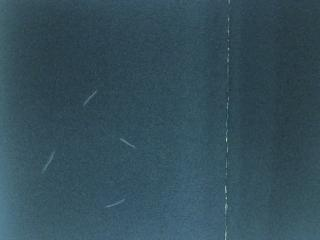crack: (217, 0, 238, 240)
scratch: (35, 146, 65, 177), (99, 194, 132, 213), (114, 133, 142, 155), (78, 86, 103, 109)
